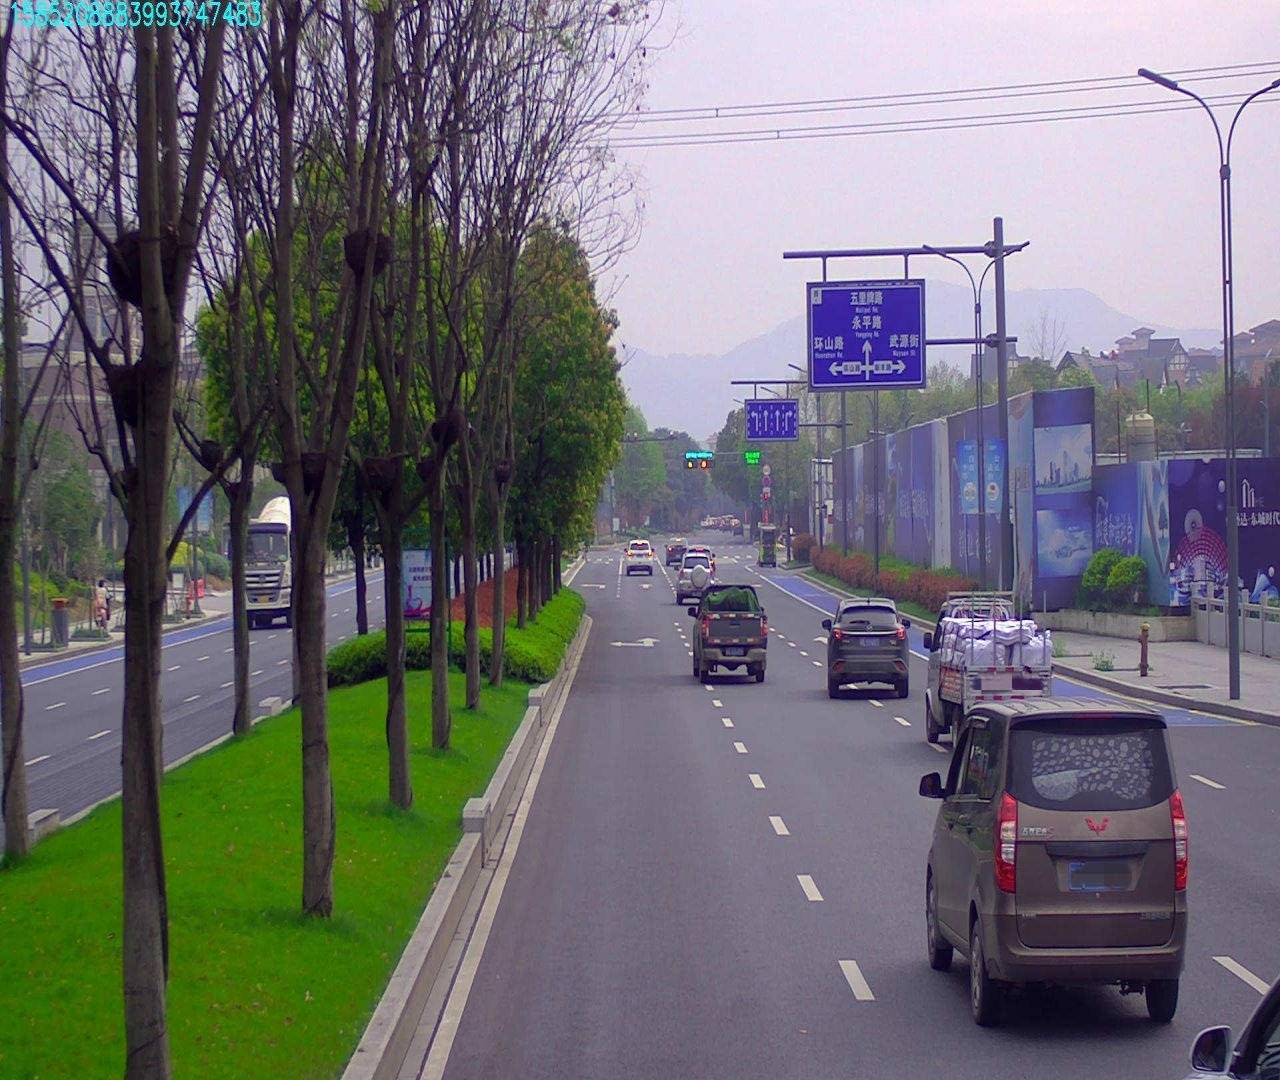red: (702, 457, 714, 472)
yellow: (680, 460, 697, 470)
